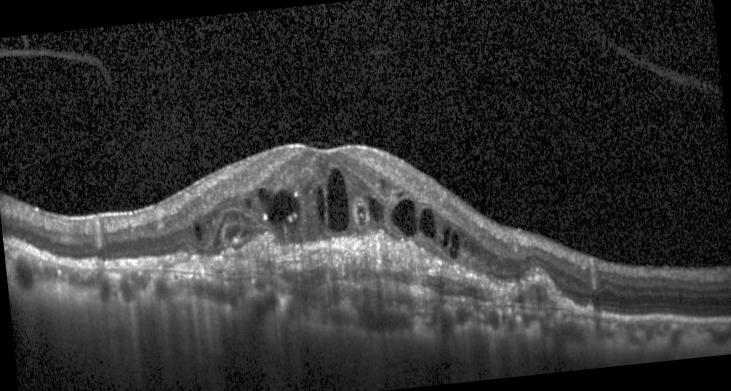intraretinal_cyst: (326, 168, 349, 232), (258, 187, 297, 224), (390, 198, 417, 237), (419, 207, 438, 237), (369, 199, 383, 223), (315, 187, 325, 219), (449, 232, 460, 259), (441, 226, 451, 247), (356, 203, 366, 224), (193, 223, 200, 240), (380, 179, 386, 189), (244, 199, 251, 207), (396, 190, 403, 197)
subretinal_fluid: (281, 266, 488, 301), (513, 279, 557, 305)
subretinal_hyperreflective_material: (170, 227, 583, 313)
